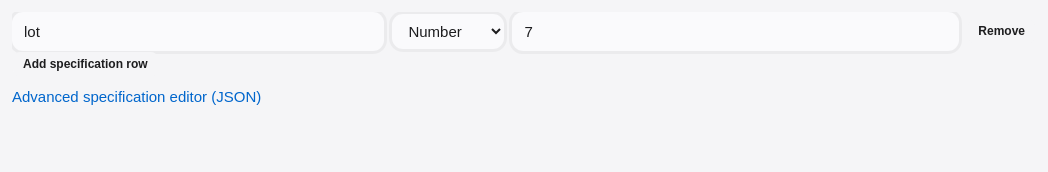
Scenario: SpecificationEditor › keeps numbers as numbers and rejects invalid numeric input
Replace the text in the field named "Value for lot" with "9" at x=736, y=32, box [512, 12, 959, 51]
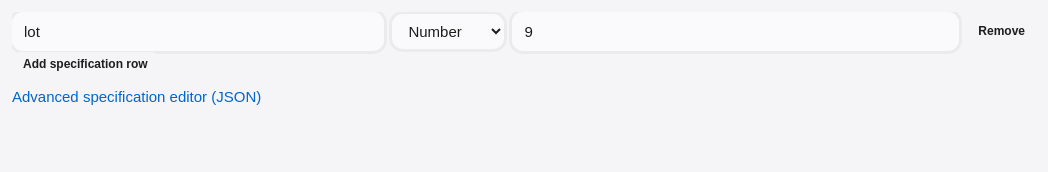
Replace the text in the field named "Value for lot" with "not-a-number" at x=736, y=32, box [512, 12, 959, 51]
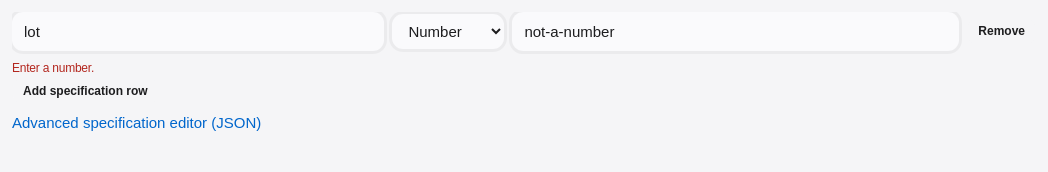
Check: the text "Enter a number." is shown, box [12, 61, 94, 75]
